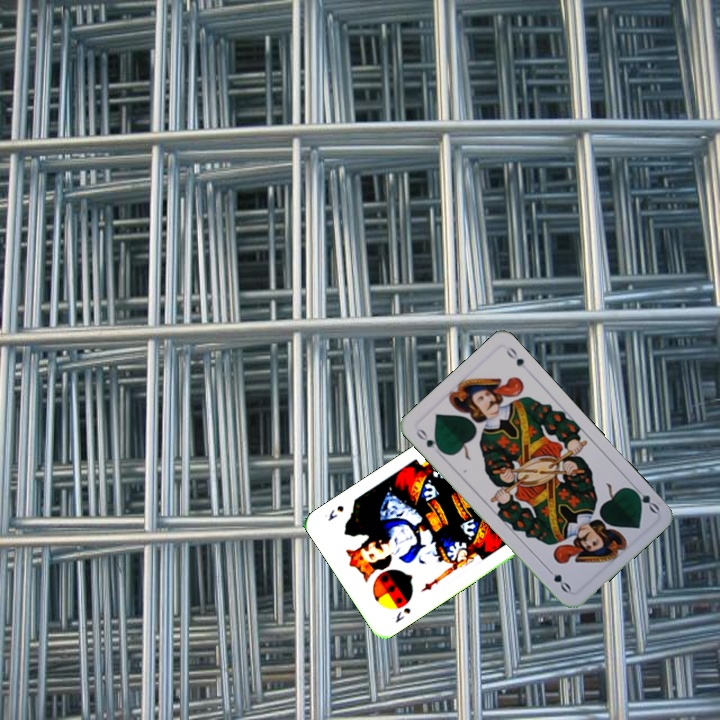GO: (627, 481, 662, 516), (412, 424, 446, 455)
SK: (391, 603, 413, 625)
